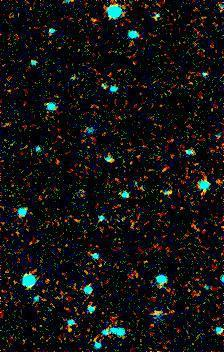star: (55, 315, 85, 345)
